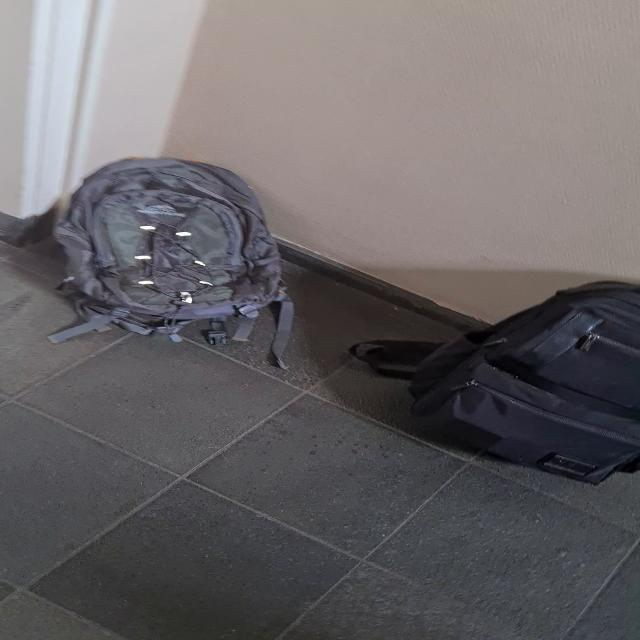backpack: (386, 275, 640, 489), (48, 152, 295, 332)
